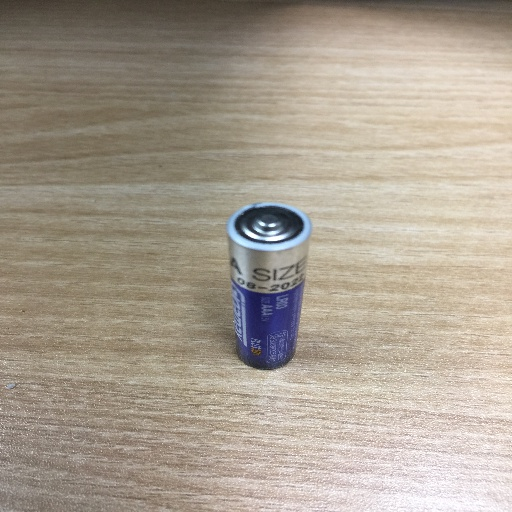Battery_0: (219, 185, 328, 387)
